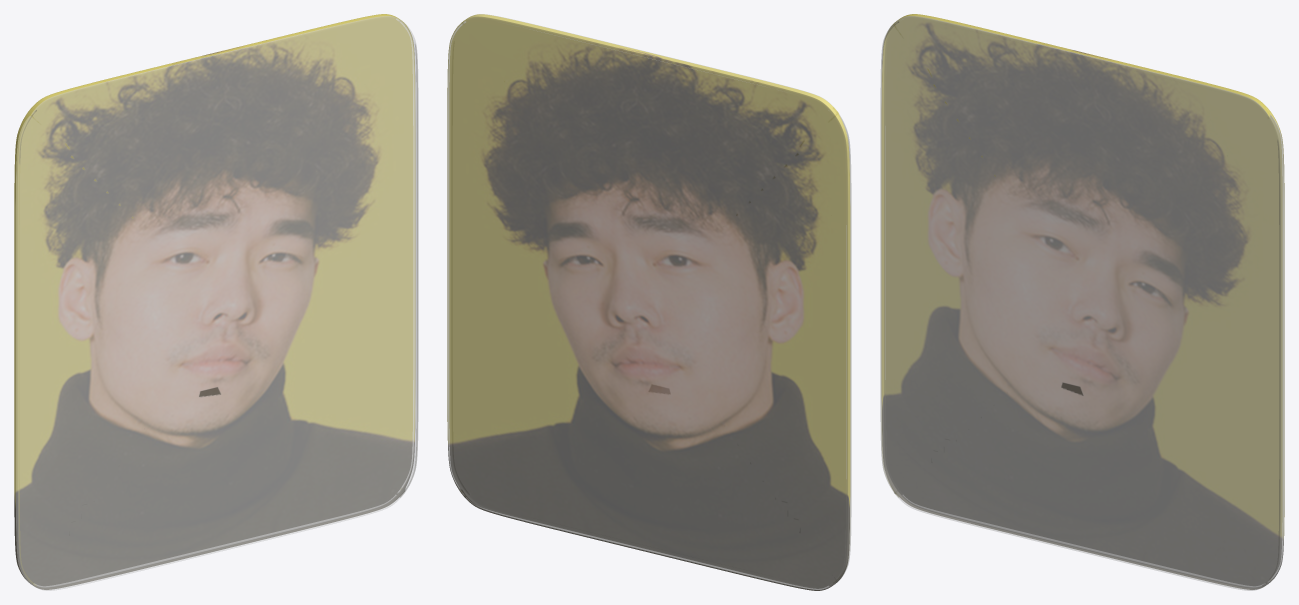
Rendered from 結果卡牌.glb.
3 renders of one model, left to right at view 1: azimuth 30°, elevation 25°; view 2: azimuth 150°, elevation 25°; view 3: azimuth 330°, elevation 25°, orthographic.
Parts seen in each view (by area): view 1: Rounded Cube Flat; view 2: Rounded Cube Flat; view 3: Rounded Cube Flat.
Part boxes in pixels (bbox=[...]): Rounded Cube Flat: bbox=[14, 14, 418, 590]; Rounded Cube Flat: bbox=[447, 14, 851, 590]; Rounded Cube Flat: bbox=[880, 14, 1284, 590].
Bounding box in the file's own units: 2.84 × 3.36 × 0.0444.
1 material, 1 textured.
